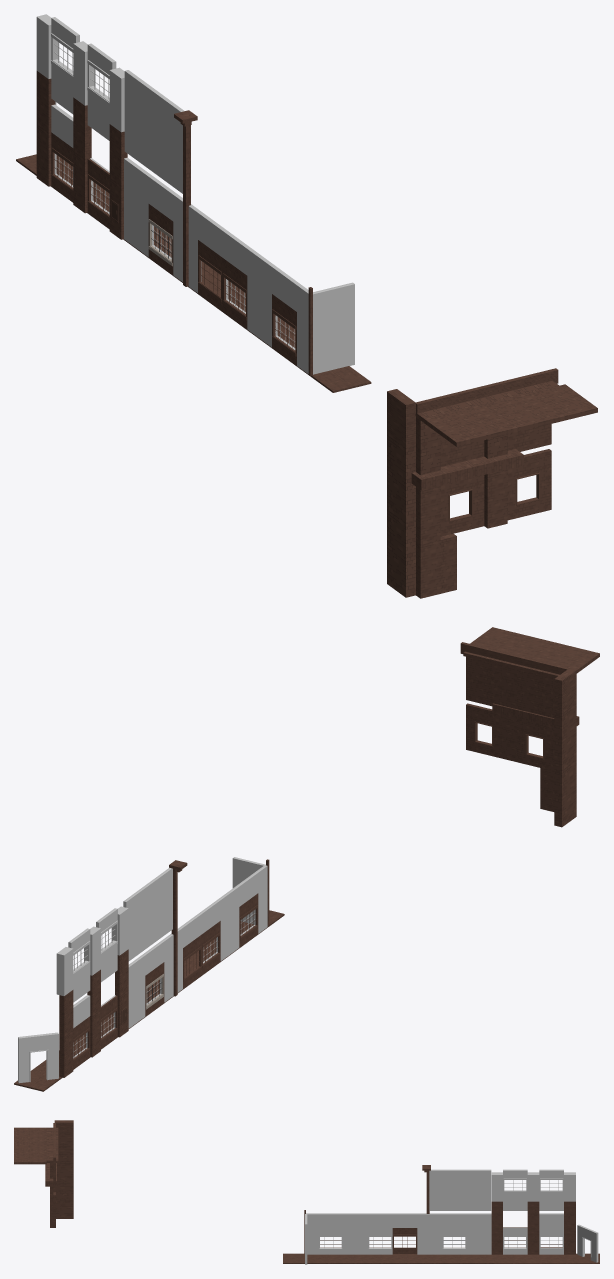
File: Combined Mesh (root_ scene) 2.obj
3 renders of one model, top to bottom at view 1: azimuth 30°, elevation 25°; view 2: azimuth 150°, elevation 25°; view 3: azimuth 270°, elevation 25°, orthographic. The views are drawn at different scales.
Parts seen in each view (by area): view 1: Combined Mesh (root: scene) 2_44, Combined Mesh (root: scene) 2_203, Combined Mesh (root: scene) 2_204, Combined Mesh (root: scene) 2_172, Combined Mesh (root: scene) 2_194, Combined Mesh (root: scene) 2_187, Combined Mesh (root: scene) 2_166, Combined Mesh (root: scene) 2_179, Combined Mesh (root: scene) 2_202, Combined Mesh (root: scene) 2_32, Combined Mesh (root: scene) 2_200, Combined Mesh (root: scene) 2_201 (+21 smaller); view 2: Combined Mesh (root: scene) 2_25, Combined Mesh (root: scene) 2_203, Combined Mesh (root: scene) 2_204, Combined Mesh (root: scene) 2_173, Combined Mesh (root: scene) 2_188, Combined Mesh (root: scene) 2_194, Combined Mesh (root: scene) 2_202, Combined Mesh (root: scene) 2_166, Combined Mesh (root: scene) 2_179, Combined Mesh (root: scene) 2_40, Combined Mesh (root: scene) 2_175, Combined Mesh (root: scene) 2_36 (+8 smaller); view 3: Combined Mesh (root: scene) 2_33, Combined Mesh (root: scene) 2_37, Combined Mesh (root: scene) 2_203, Combined Mesh (root: scene) 2_204, Combined Mesh (root: scene) 2_27, Combined Mesh (root: scene) 2_166, Combined Mesh (root: scene) 2_194, Combined Mesh (root: scene) 2_202, Combined Mesh (root: scene) 2_179, Combined Mesh (root: scene) 2_23, Combined Mesh (root: scene) 2_8, Combined Mesh (root: scene) 2_41 (+42 smaller).
Part boxes in pixels (bbox=[...]): Combined Mesh (root: scene) 2_44: bbox=[313, 311, 354, 374]; Combined Mesh (root: scene) 2_203: bbox=[387, 509, 415, 597]; Combined Mesh (root: scene) 2_204: bbox=[387, 435, 415, 522]; Combined Mesh (root: scene) 2_172: bbox=[507, 449, 551, 520]; Combined Mesh (root: scene) 2_194: bbox=[424, 407, 503, 444]; Combined Mesh (root: scene) 2_187: bbox=[440, 475, 484, 536]; Combined Mesh (root: scene) 2_166: bbox=[518, 384, 597, 421]; Combined Mesh (root: scene) 2_179: bbox=[471, 396, 550, 432]; Combined Mesh (root: scene) 2_202: bbox=[387, 389, 415, 448]; Combined Mesh (root: scene) 2_32: bbox=[124, 98, 149, 168]; Combined Mesh (root: scene) 2_200: bbox=[416, 540, 440, 598]; Combined Mesh (root: scene) 2_201: bbox=[416, 486, 440, 544]; Combined Mesh (root: scene) 2_25: bbox=[18, 1033, 58, 1083]; Combined Mesh (root: scene) 2_203: bbox=[554, 760, 576, 827]; Combined Mesh (root: scene) 2_204: bbox=[554, 703, 576, 770]; Combined Mesh (root: scene) 2_173: bbox=[466, 704, 501, 758]; Combined Mesh (root: scene) 2_188: bbox=[517, 718, 552, 770]; Combined Mesh (root: scene) 2_194: bbox=[542, 644, 599, 671]; Combined Mesh (root: scene) 2_202: bbox=[554, 668, 576, 713]; Combined Mesh (root: scene) 2_166: bbox=[470, 627, 527, 652]; Combined Mesh (root: scene) 2_179: bbox=[506, 636, 563, 661]; Combined Mesh (root: scene) 2_40: bbox=[56, 947, 73, 995]; Combined Mesh (root: scene) 2_175: bbox=[466, 677, 501, 706]; Combined Mesh (root: scene) 2_36: bbox=[154, 888, 172, 942]; Combined Mesh (root: scene) 2_33: bbox=[466, 1184, 491, 1210]; Combined Mesh (root: scene) 2_37: bbox=[429, 1184, 454, 1210]; Combined Mesh (root: scene) 2_203: bbox=[56, 1181, 73, 1218]; Combined Mesh (root: scene) 2_204: bbox=[57, 1144, 73, 1181]; Combined Mesh (root: scene) 2_27: bbox=[577, 1225, 597, 1262]; Combined Mesh (root: scene) 2_166: bbox=[14, 1150, 46, 1163]; Combined Mesh (root: scene) 2_194: bbox=[14, 1127, 46, 1139]; Combined Mesh (root: scene) 2_202: bbox=[54, 1120, 73, 1144]; Combined Mesh (root: scene) 2_179: bbox=[14, 1139, 46, 1150]; Combined Mesh (root: scene) 2_23: bbox=[318, 1228, 343, 1254]; Combined Mesh (root: scene) 2_8: bbox=[503, 1227, 527, 1254]; Combined Mesh (root: scene) 2_41: bbox=[527, 1172, 539, 1201].
Size of the model in its own units: 11.65 by 10.77 by 59.28.
5 materials, 5 textured.
